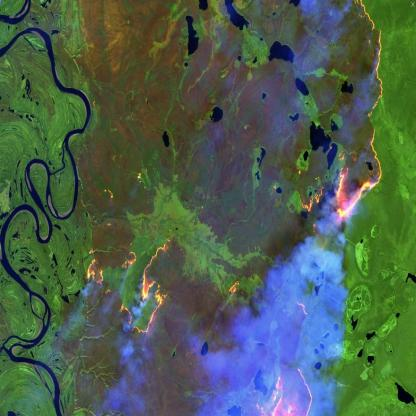fire: (298, 0, 388, 228), (81, 240, 175, 345), (252, 362, 320, 416), (222, 269, 247, 305)
